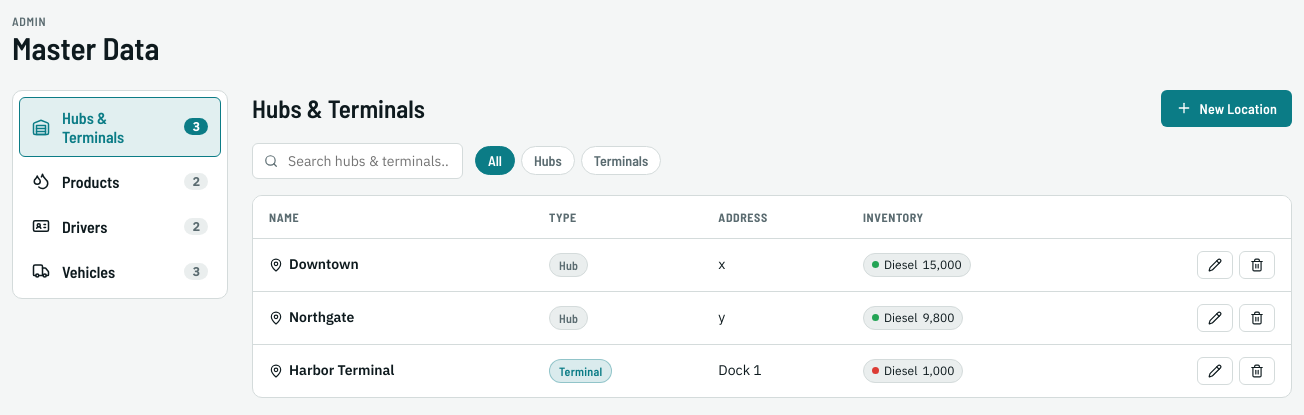
Test: MasterDataPage › renders all vehicle Badge tones and filters by maintenance
Check: the text "Downtown" is shown, box 269,255 -> 359,273
What coordinates should you click on to do the following:
click the button "Vehicles 3"
I would click on:
 (120, 271)
Its box is 19,251 -> 221,292.
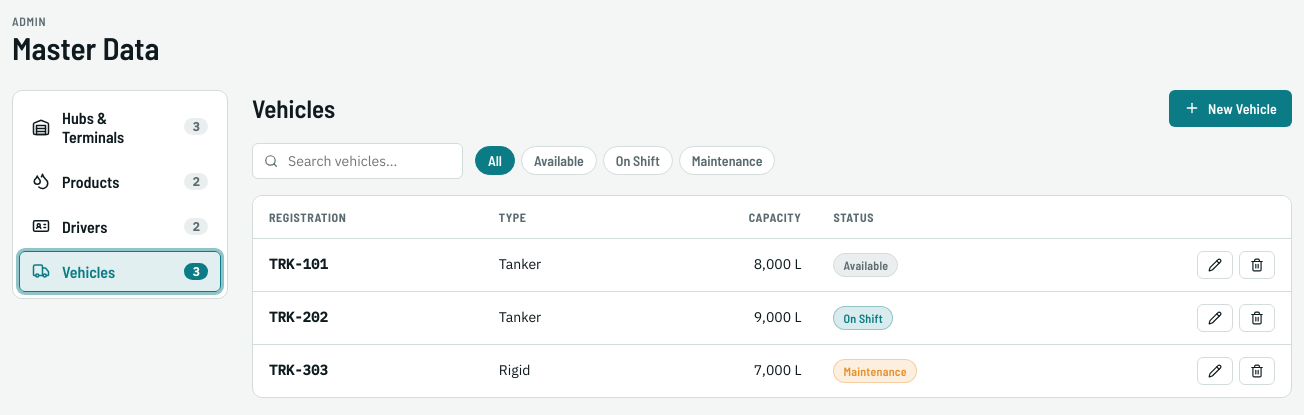
Check: the text "TRK-101" is shown, box 269,255 -> 328,273
Check: the text "available" is shown, box 833,253 -> 898,277
Check: the text "on shift" is shown, box 833,306 -> 893,330
What coordinates should you click on to do the following:
click the tab "Maintenance"
I would click on:
 (727, 161)
Its box is 679,146 -> 776,175.
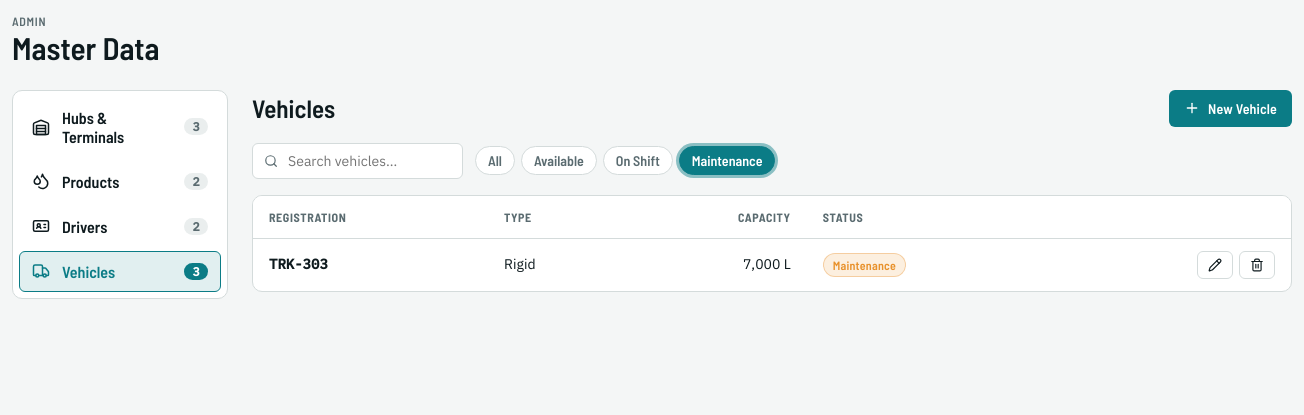
Check: the text "TRK-303" is shown, box 269,255 -> 328,273
Check: the text "TRK-101" is gone
